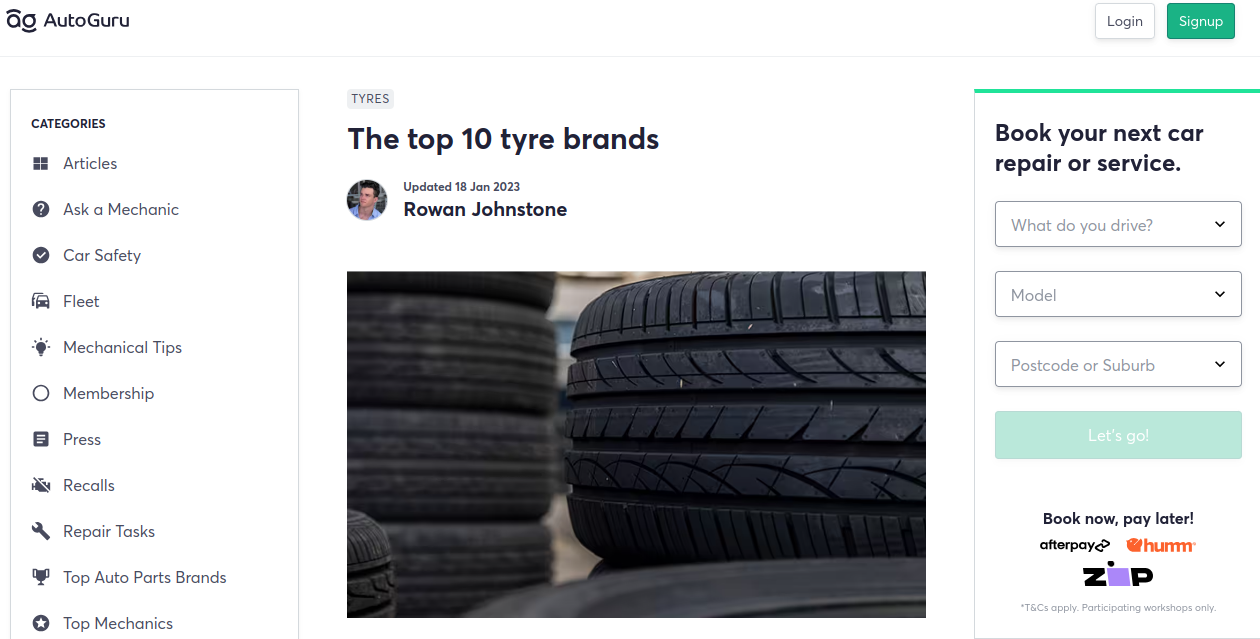menu: (8, 97, 290, 638)
